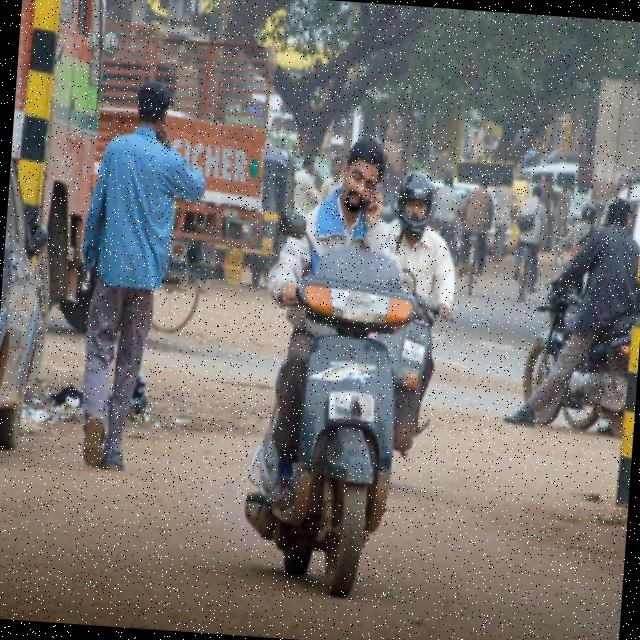No helmet: (327, 127, 394, 210)
Using mobile: (312, 126, 414, 256)
